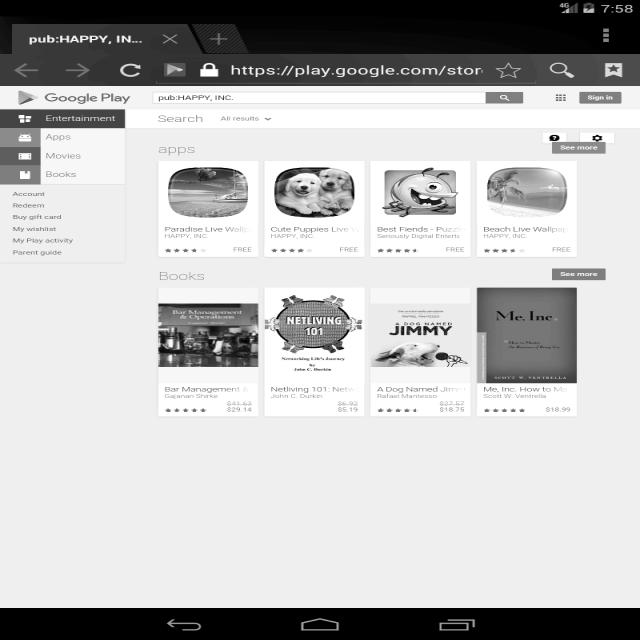Button: (546, 265, 613, 283)
ImageButton: (574, 86, 626, 106)
ImageView: (474, 286, 577, 384), (162, 165, 245, 217), (488, 166, 564, 218)
